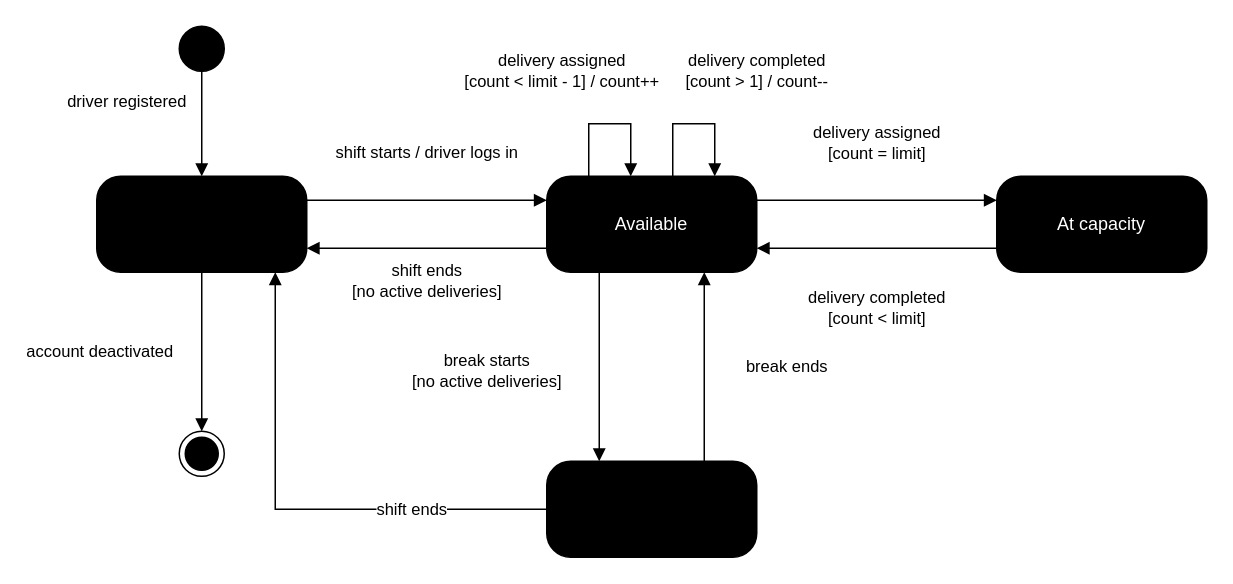
Some shapes in this 1233 by 584 pixel diagram are drawn without their labels. Each missing label, with the box of its shape:
Off shift: (95, 175, 307, 272)
On break: (545, 460, 757, 557)
